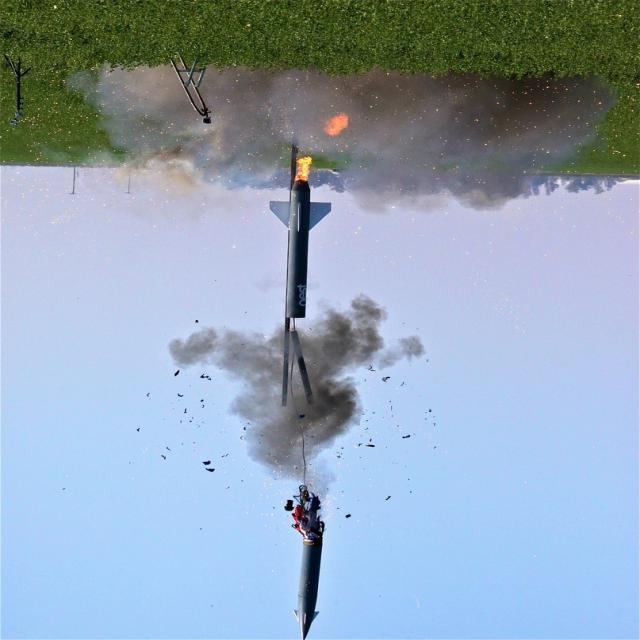Missile: (290, 491, 342, 636)
